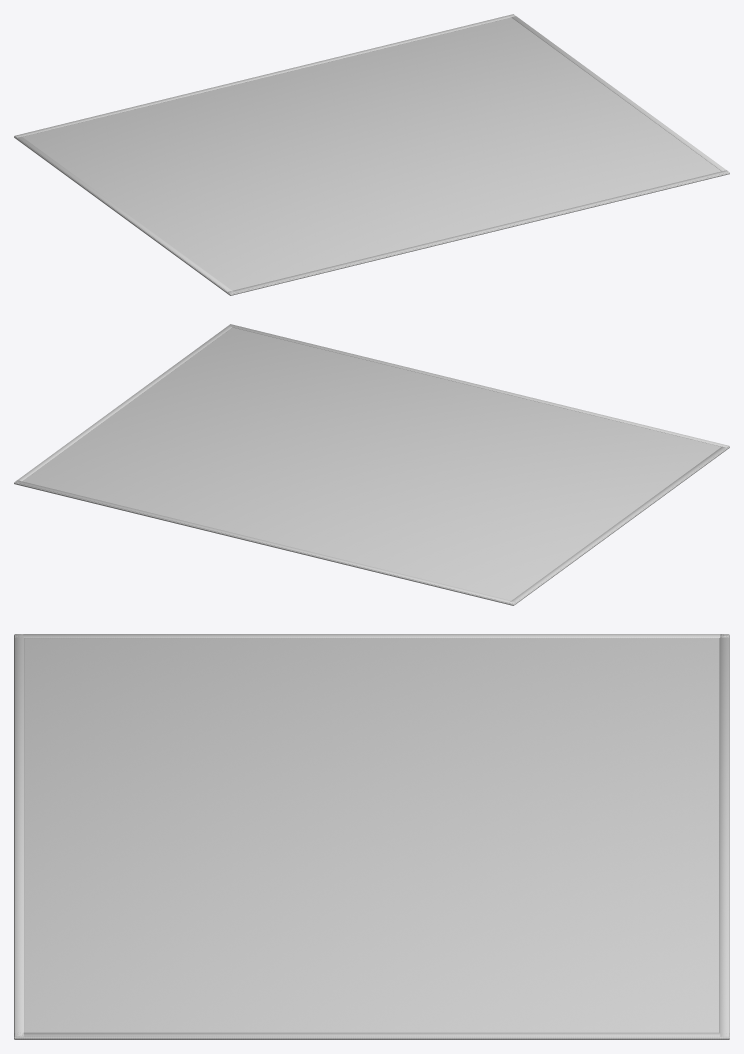
File: rug-rect-pile.glb
The picture shows the model from 3 angles, top to bottom: view 1: azimuth 30°, elevation 25°; view 2: azimuth 150°, elevation 25°; view 3: azimuth 270°, elevation 25°; orthographic projection. The views are drawn at different scales.
Visible parts, largest first — view 1: Low pile rectangular rug, Bound rug edge, Bound rug edge.001, Bound rug edge.002, Bound rug edge.003; view 2: Low pile rectangular rug, Bound rug edge.001, Bound rug edge, Bound rug edge.002, Bound rug edge.003; view 3: Low pile rectangular rug, Bound rug edge.001, Bound rug edge, Bound rug edge.002, Bound rug edge.003.
Boxes of the visible parts, x1,y1,x2,y2 form: Low pile rectangular rug: [14, 17, 729, 295]; Bound rug edge: [228, 170, 728, 293]; Bound rug edge.001: [15, 14, 515, 137]; Bound rug edge.002: [15, 136, 234, 293]; Bound rug edge.003: [511, 16, 729, 173]; Low pile rectangular rug: [14, 327, 729, 605]; Bound rug edge.001: [15, 480, 515, 603]; Bound rug edge: [228, 324, 728, 447]; Bound rug edge.002: [509, 446, 728, 603]; Bound rug edge.003: [15, 325, 232, 483]; Low pile rectangular rug: [14, 635, 729, 1039]; Bound rug edge.001: [719, 634, 729, 1036]; Bound rug edge: [14, 634, 24, 1036]; Bound rug edge.002: [14, 634, 728, 638]; Bound rug edge.003: [14, 1032, 729, 1036].
Bounding box in the file's own units: 2.44 × 0.01 × 1.83.
Materials: 1 (1 with a texture image).
